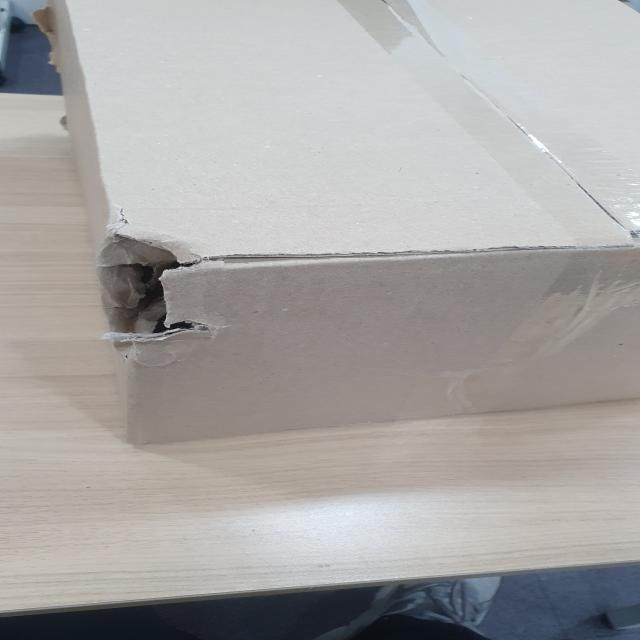hole: (98, 222, 216, 354)
